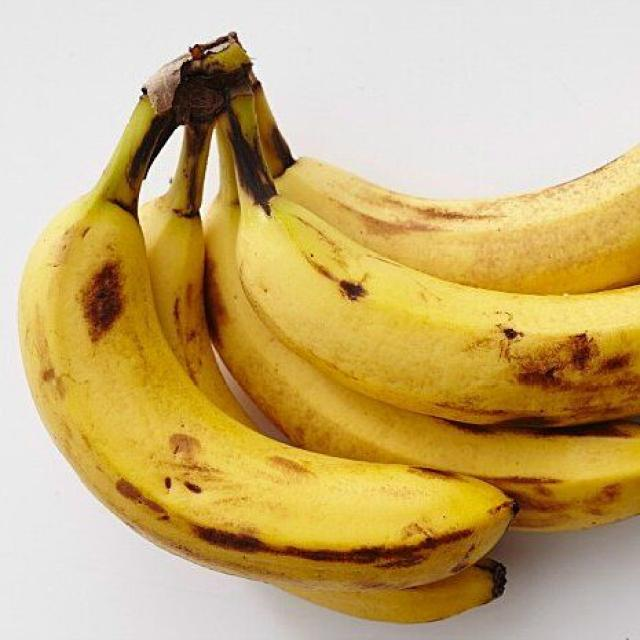unpeal banana: (20, 43, 514, 589), (204, 189, 639, 531), (223, 95, 639, 426), (255, 83, 639, 293), (140, 123, 253, 428), (140, 126, 251, 425), (285, 559, 505, 623)
